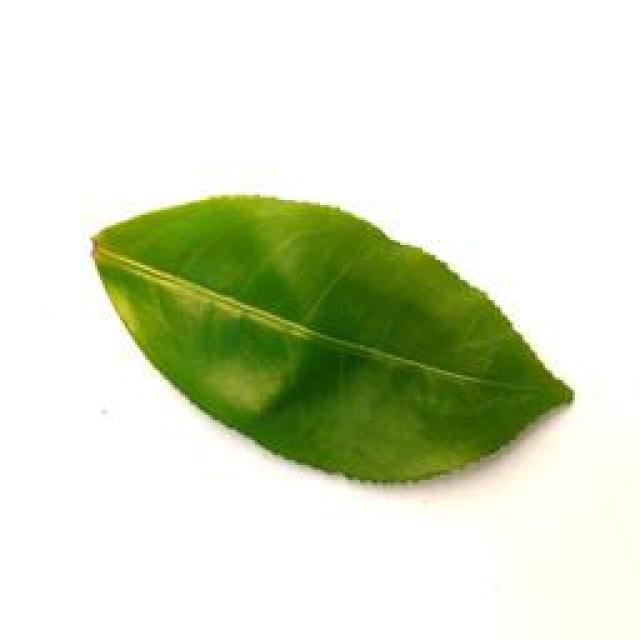Healthy: (84, 187, 574, 488)
